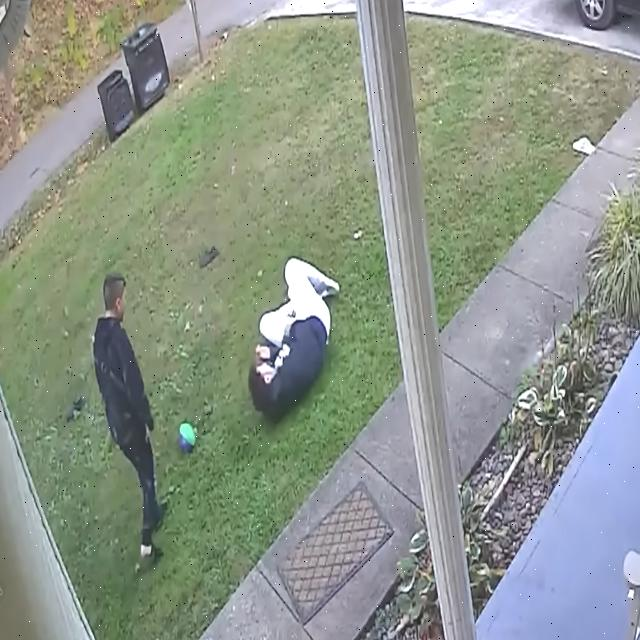fallen: (248, 257, 339, 422)
standing: (93, 273, 167, 563)
